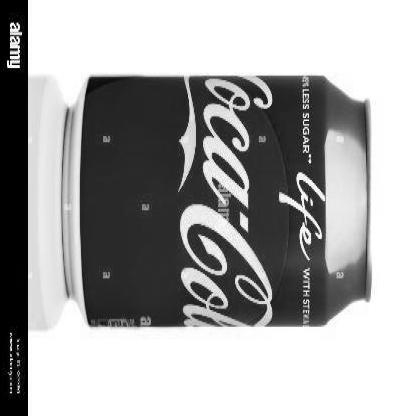alumunium_can: (58, 72, 376, 332)
